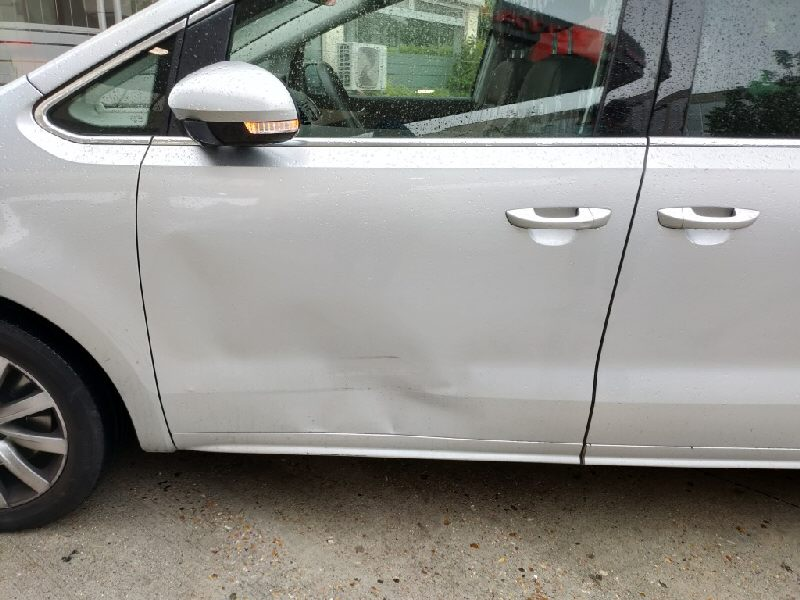front door: (129, 1, 644, 487)
